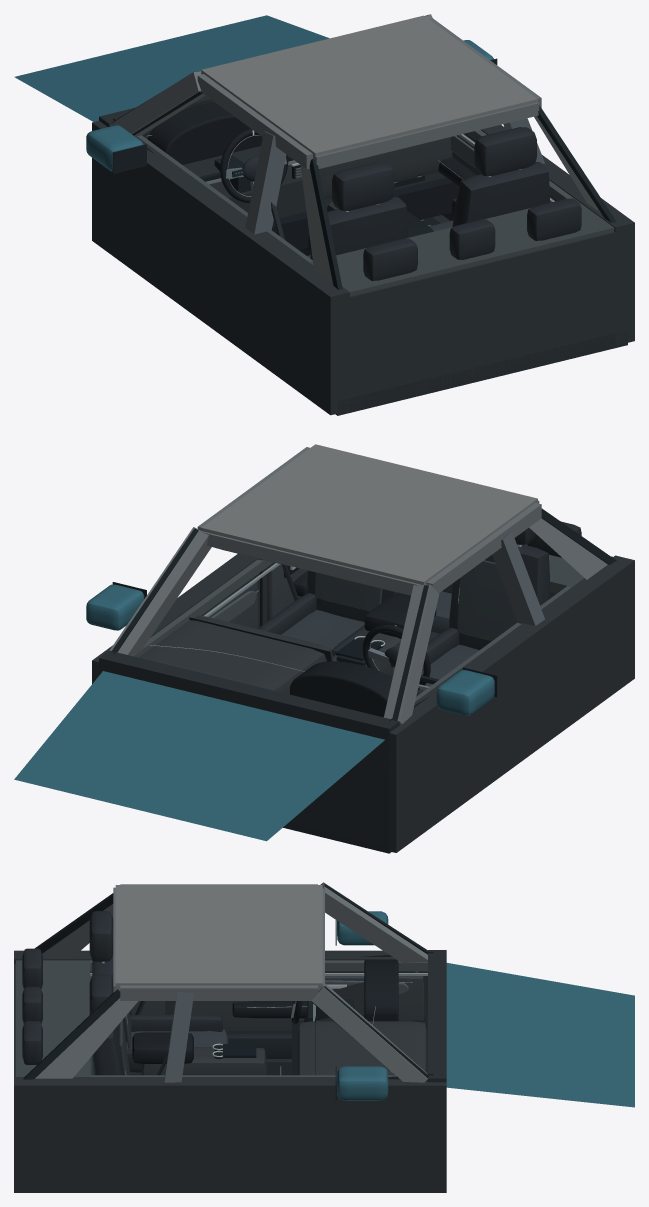
Rendered from sedan-cabin.glb.
3 renders of one model, top to bottom at view 1: azimuth 30°, elevation 25°; view 2: azimuth 150°, elevation 25°; view 3: azimuth 270°, elevation 25°, orthographic. The views are drawn at different scales.
Visible parts, largest first — view 1: finish-:2830903:0.88:0:0, finish-:7830653:0.88:0:0, finish-:2370353:0.88:0:0, finish-:3302774:0.88:0:2, finish-:6844532:0.88:0:0, finish-:4278604:0.88:0:0, finish-:1514787:0.88:0:0, finish-:2370352:0.88:0:0, finish-:5594725:0.88:0:0, finish-:1449250:0.88:0:0, finish-:3159868:0.88:0:0, finish-:1515300:0.88:0:0 (+6 smaller); view 2: finish-:3302774:0.88:0:2, finish-:2830903:0.88:0:0, finish-:7830653:0.88:0:0, finish-:2436145:0.88:0:0, finish-:6844532:0.88:0:0, finish-:3159868:0.88:0:0, finish-:3423556:0.88:0:0, finish-:2370353:0.88:0:0, finish-:1514787:0.88:0:0, finish-:3302774:0.88:0:0, finish-:5594725:0.88:0:0, finish-:1515300:0.88:0:0 (+7 smaller); view 3: finish-:2830903:0.88:0:0, finish-:3302774:0.88:0:2, finish-:7830653:0.88:0:0, finish-:6844532:0.88:0:0, finish-:2370353:0.88:0:0, finish-:3159868:0.88:0:0, finish-:4278604:0.88:0:0, finish-:1514787:0.88:0:0, finish-:6844532:0.88:0:2, finish-:3554884:0.88:0:0, finish-:1515300:0.88:0:0, finish-:2436145:0.88:0:0 (+8 smaller).
Boxes of the visible parts, x1,y1,x2,y2 form: finish-:2830903:0.88:0:0: [92, 121, 634, 415]; finish-:7830653:0.88:0:0: [201, 15, 537, 160]; finish-:2370353:0.88:0:0: [271, 127, 581, 280]; finish-:3302774:0.88:0:2: [14, 15, 329, 121]; finish-:6844532:0.88:0:0: [109, 14, 541, 169]; finish-:4278604:0.88:0:0: [309, 197, 614, 296]; finish-:1514787:0.88:0:0: [148, 102, 476, 237]; finish-:2370352:0.88:0:0: [335, 215, 627, 415]; finish-:5594725:0.88:0:0: [245, 118, 544, 234]; finish-:1449250:0.88:0:0: [272, 177, 457, 249]; finish-:3159868:0.88:0:0: [319, 137, 452, 211]; finish-:1515300:0.88:0:0: [111, 14, 616, 289]; finish-:3302774:0.88:0:2: [14, 671, 384, 841]; finish-:2830903:0.88:0:0: [92, 554, 634, 852]; finish-:7830653:0.88:0:0: [201, 444, 537, 584]; finish-:2436145:0.88:0:0: [99, 650, 399, 847]; finish-:6844532:0.88:0:0: [109, 447, 541, 724]; finish-:3159868:0.88:0:0: [139, 615, 428, 694]; finish-:3423556:0.88:0:0: [281, 560, 556, 696]; finish-:2370353:0.88:0:0: [258, 521, 581, 664]; finish-:1514787:0.88:0:0: [290, 570, 436, 717]; finish-:3302774:0.88:0:0: [86, 584, 494, 715]; finish-:5594725:0.88:0:0: [216, 531, 544, 625]; finish-:1515300:0.88:0:0: [111, 508, 616, 720]; finish-:2830903:0.88:0:0: [14, 950, 446, 1192]; finish-:3302774:0.88:0:2: [446, 963, 634, 1107]; finish-:7830653:0.88:0:0: [115, 885, 322, 990]; finish-:6844532:0.88:0:0: [113, 882, 427, 1082]; finish-:2370353:0.88:0:0: [22, 911, 222, 1075]; finish-:3159868:0.88:0:0: [141, 1021, 427, 1075]; finish-:4278604:0.88:0:0: [16, 960, 90, 1076]; finish-:1514787:0.88:0:0: [130, 959, 398, 1063]; finish-:6844532:0.88:0:2: [35, 904, 138, 1078]; finish-:3554884:0.88:0:0: [90, 976, 424, 1030]; finish-:1515300:0.88:0:0: [23, 883, 429, 1081]; finish-:2436145:0.88:0:0: [428, 950, 446, 1082].
Bounding box in the file's own units: 2.17 × 1.14 × 3.33.
